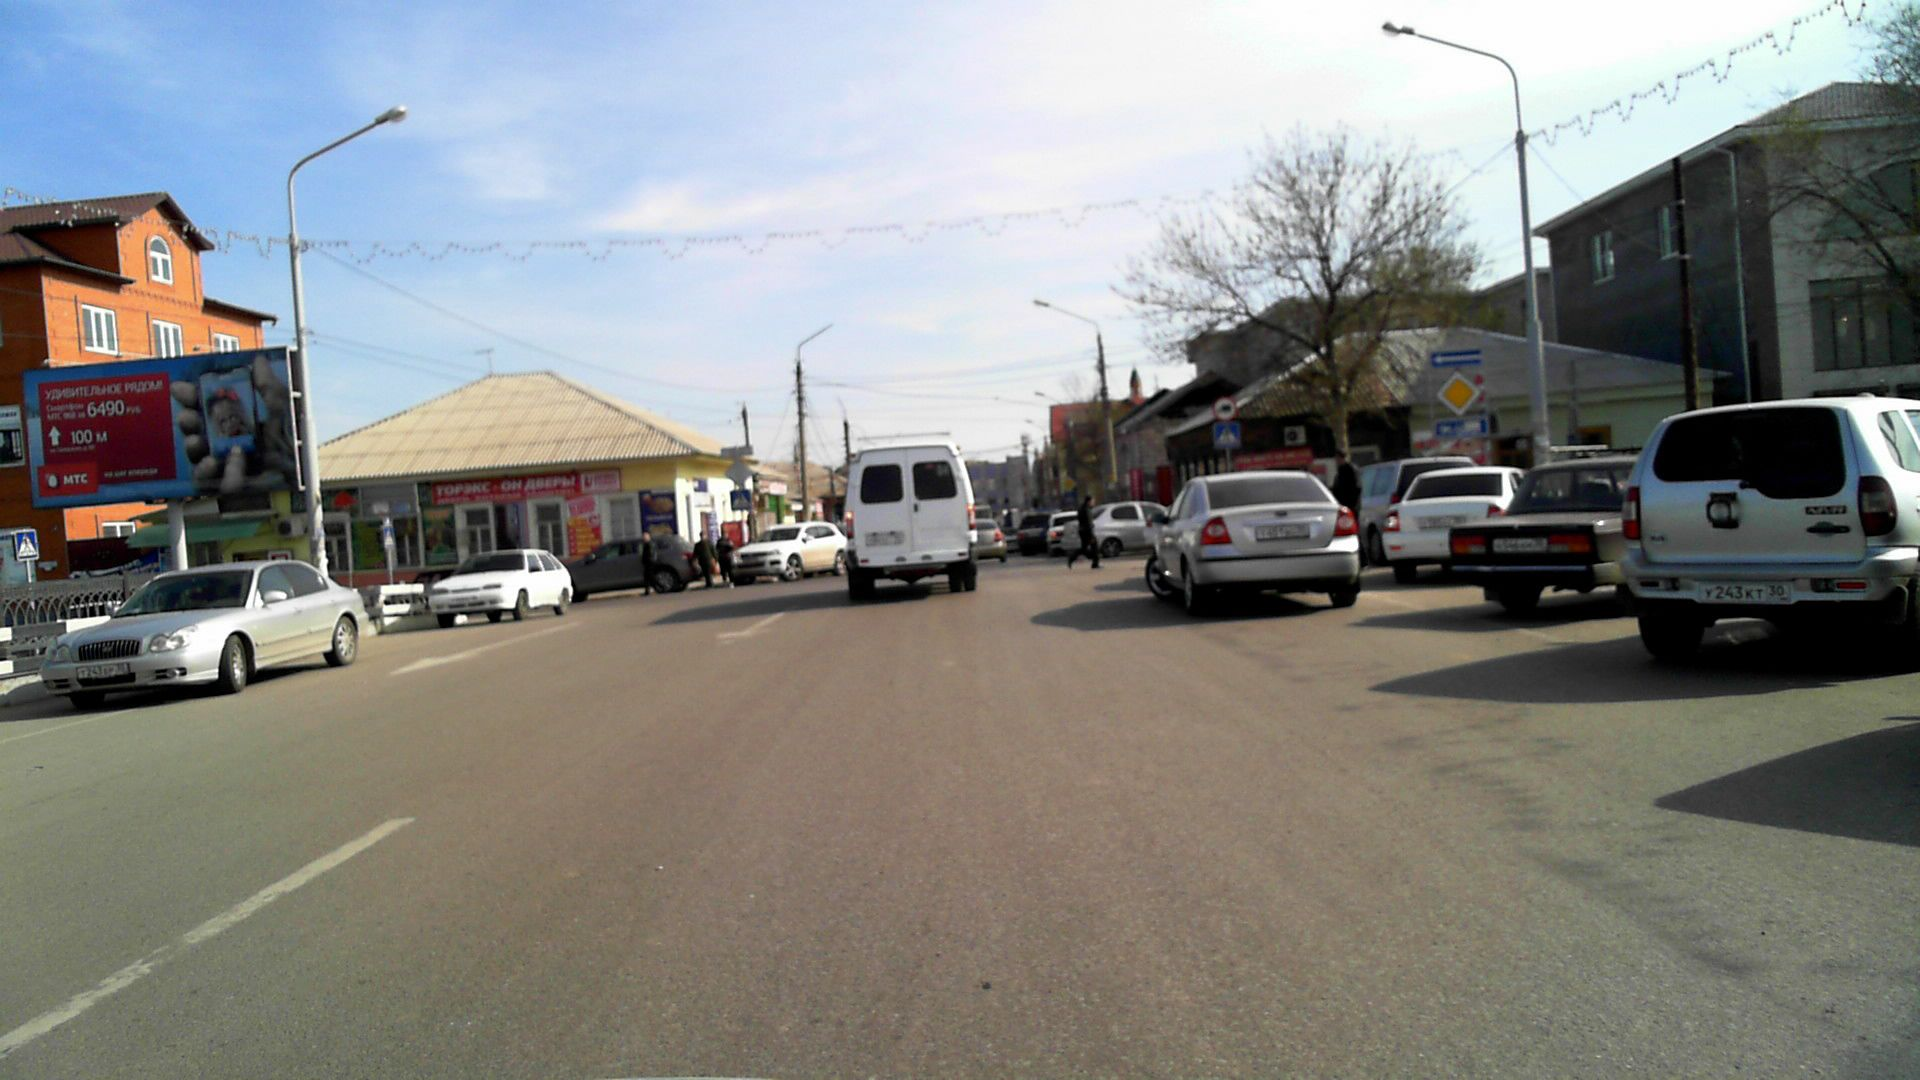One-Way Traffic: (1431, 349, 1484, 367)
